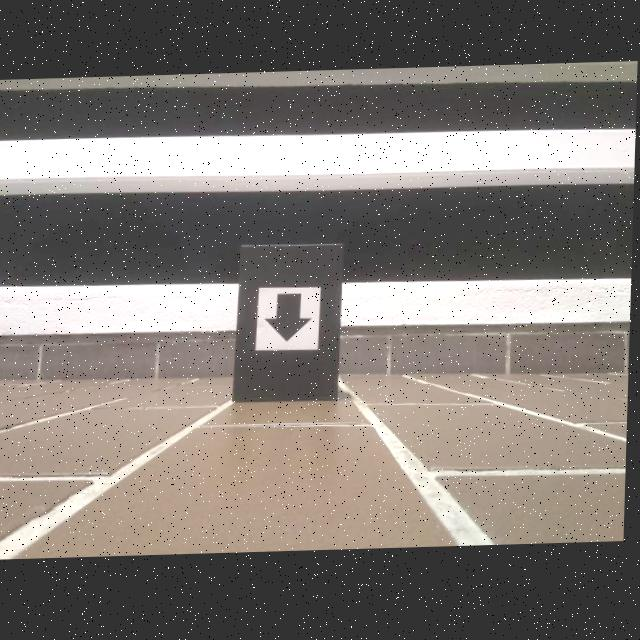DOWN: (265, 294, 315, 344)
